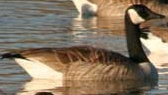goose: (2, 2, 167, 91)
